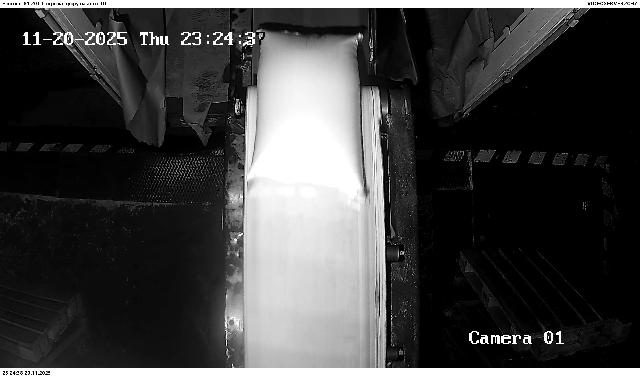bag: (246, 28, 365, 199)
